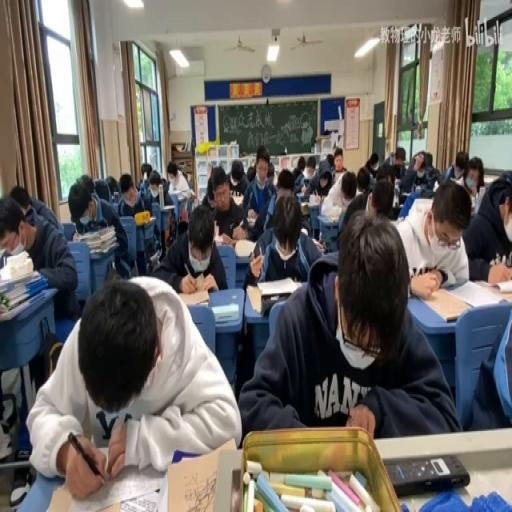calculator: (165, 439, 238, 512), (70, 458, 166, 509), (446, 278, 502, 308), (0, 266, 40, 292), (258, 274, 299, 294), (178, 287, 210, 307), (210, 300, 238, 322), (406, 194, 430, 218), (244, 283, 262, 313), (234, 238, 256, 256), (6, 240, 26, 258), (310, 238, 325, 252), (476, 186, 485, 208), (230, 192, 244, 206), (149, 249, 160, 266), (0, 245, 8, 263), (308, 193, 320, 205), (245, 209, 256, 222), (299, 200, 309, 214), (294, 189, 308, 199), (213, 233, 224, 245), (326, 213, 340, 222), (160, 204, 174, 210), (402, 190, 412, 198), (146, 216, 155, 223)
paper: (240, 208, 458, 440), (29, 270, 239, 501), (0, 189, 78, 328), (394, 175, 471, 291), (461, 294, 512, 429), (152, 202, 226, 294), (69, 174, 130, 278), (461, 171, 512, 277), (242, 145, 276, 238), (340, 169, 382, 233), (401, 146, 438, 194), (118, 170, 150, 224), (300, 154, 334, 202), (166, 161, 192, 202), (226, 155, 248, 199), (444, 150, 470, 186), (9, 183, 34, 219), (330, 147, 348, 179), (276, 166, 294, 196), (201, 170, 216, 204), (374, 164, 393, 188), (363, 151, 379, 176), (104, 175, 120, 199), (140, 160, 153, 180), (394, 146, 406, 165), (470, 168, 482, 185), (264, 160, 274, 180), (306, 158, 315, 176), (246, 166, 254, 184), (161, 176, 169, 192), (325, 154, 334, 168), (297, 155, 304, 171), (387, 150, 394, 164), (426, 151, 432, 165)
person: (385, 454, 470, 496), (260, 292, 291, 314), (230, 468, 242, 510), (446, 313, 458, 321)
